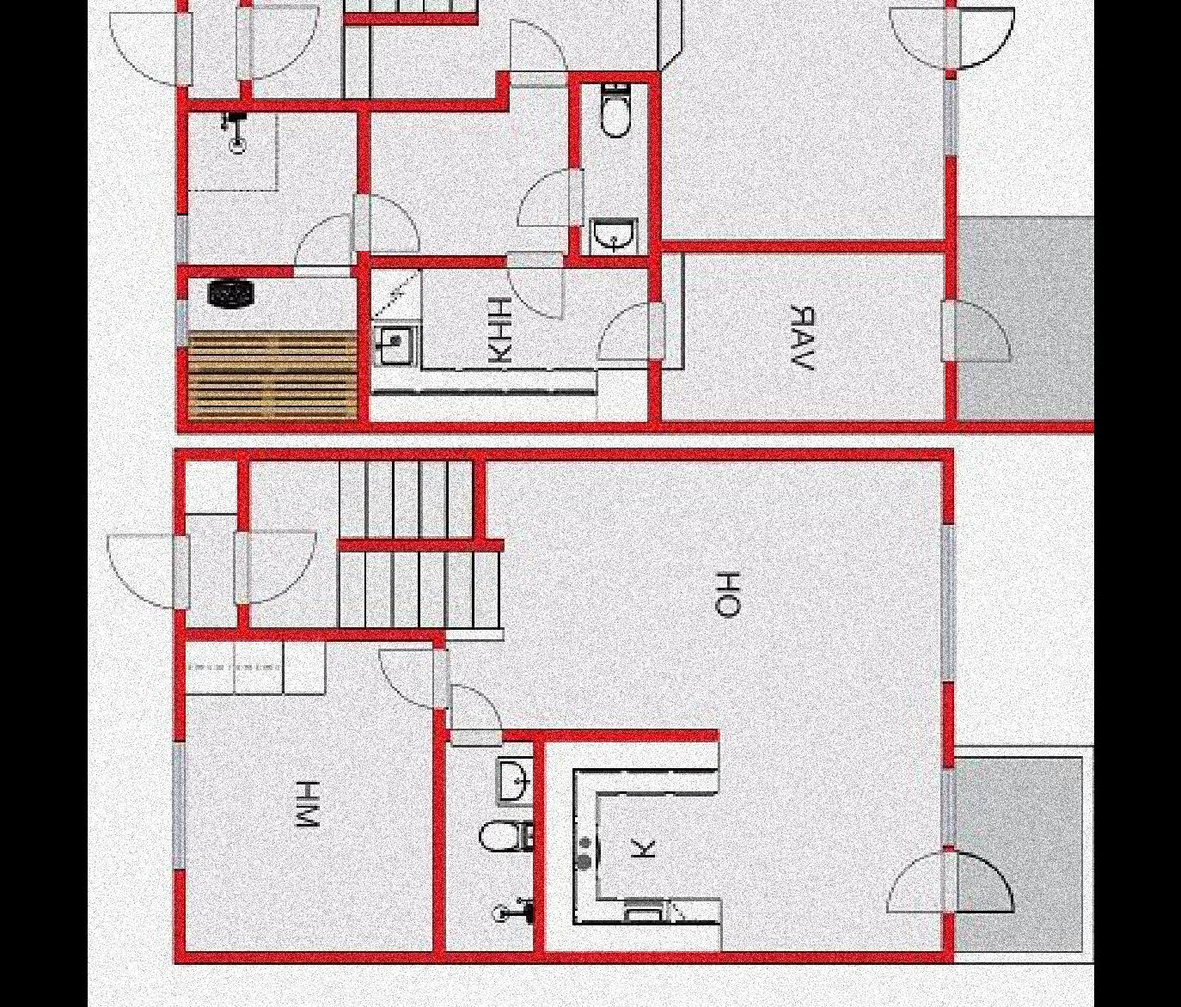door: (882, 2, 1021, 81), (874, 852, 1019, 921), (106, 12, 195, 91), (236, 3, 320, 84), (103, 531, 192, 607), (231, 531, 322, 605), (371, 643, 451, 716), (933, 303, 1014, 367), (438, 684, 512, 754), (589, 296, 667, 362), (507, 17, 572, 86), (509, 168, 581, 230), (293, 211, 356, 277), (355, 194, 425, 253), (503, 250, 559, 319)
window: (168, 738, 189, 873), (938, 519, 955, 683), (938, 766, 957, 845), (943, 81, 959, 157), (168, 299, 192, 345), (169, 216, 186, 264)
zone: (248, 461, 942, 959), (184, 642, 429, 951), (661, 0, 944, 239), (655, 259, 949, 420), (369, 268, 646, 423), (254, 0, 656, 97), (372, 83, 573, 258), (954, 220, 1092, 420), (185, 110, 358, 264), (954, 760, 1084, 952), (189, 277, 364, 418), (444, 738, 537, 952), (576, 81, 649, 256), (184, 0, 241, 98)
